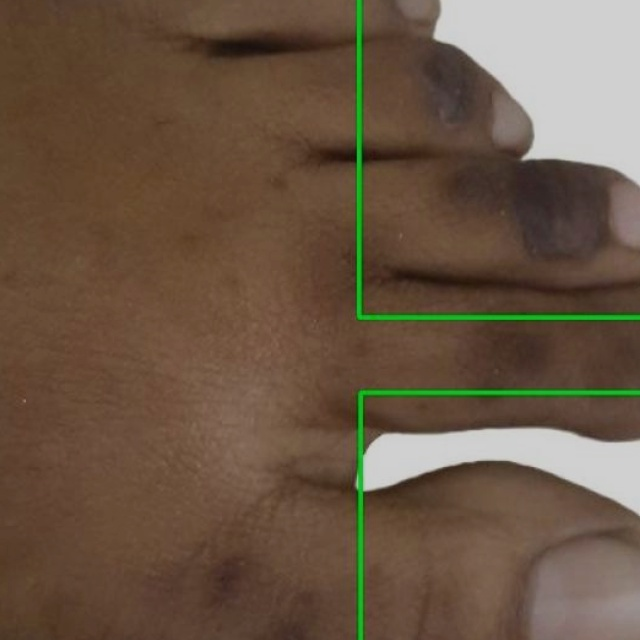Tinea Corporis: (359, 0, 639, 317), (359, 394, 639, 639)
